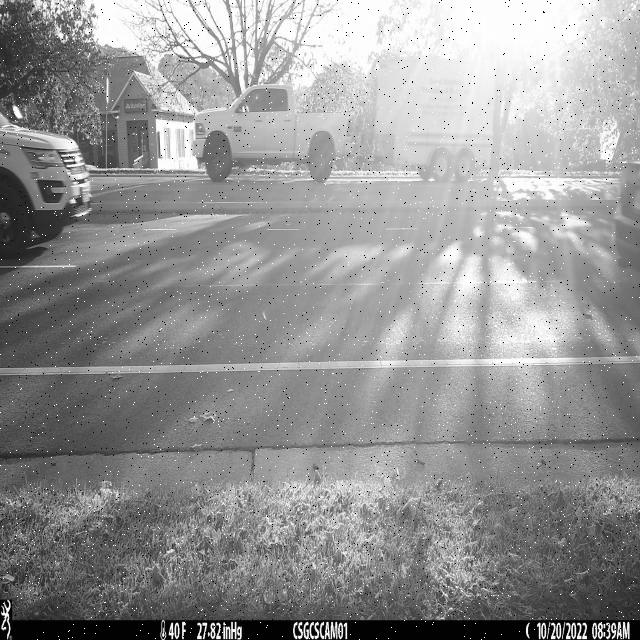Box Truck: (360, 59, 495, 182)
Pickup: (192, 84, 353, 184)
